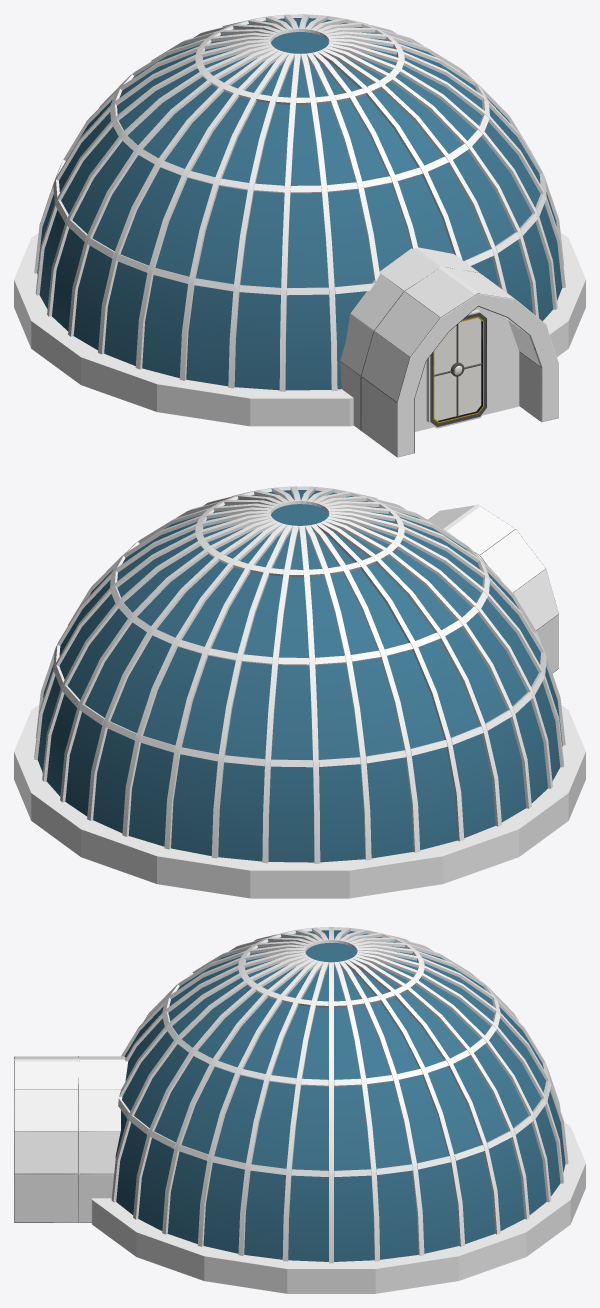
File: Fachada.obj
3 renders of one model, top to bottom at view 1: azimuth 30°, elevation 25°; view 2: azimuth 150°, elevation 25°; view 3: azimuth 270°, elevation 25°, orthographic. The views are drawn at different scales.
Parts seen in each view (by area): view 1: Iglo House; view 2: Iglo House; view 3: Iglo House.
Part boxes in pixels (left/top/right/bottom): Iglo House: left=14, top=14, right=585, bottom=457; Iglo House: left=14, top=486, right=585, bottom=898; Iglo House: left=14, top=927, right=585, bottom=1293.
Size of the model in its own units: 7.14 by 3.72 by 8.14.
Materials: 7 (7 with a texture image).
